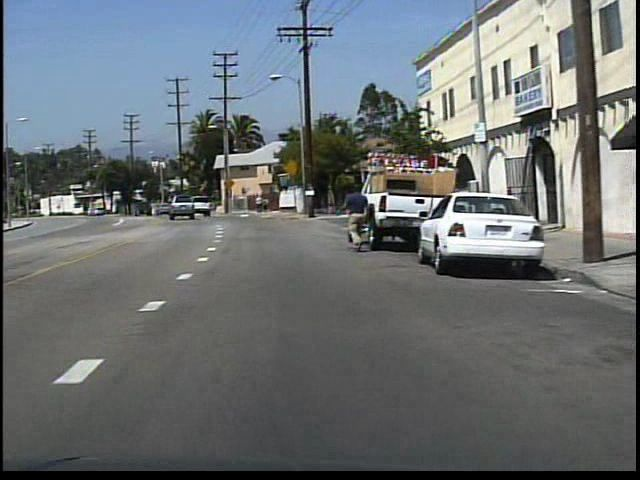person: (338, 183, 371, 254), (254, 194, 263, 216), (261, 197, 271, 216)
